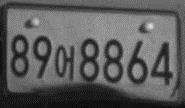4: (149, 40, 174, 86)
6: (126, 39, 149, 85)
8: (78, 37, 100, 82), (103, 38, 123, 84), (10, 33, 30, 78)
9: (32, 35, 52, 78)
어: (55, 44, 75, 82)
